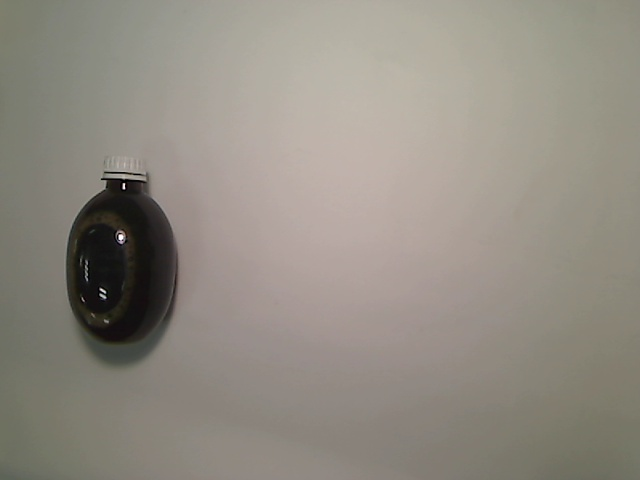plast_bottle: (62, 152, 182, 349)
